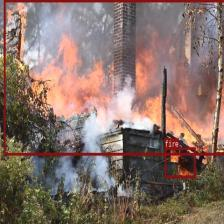fire: (3, 0, 224, 154), (164, 146, 196, 178)
